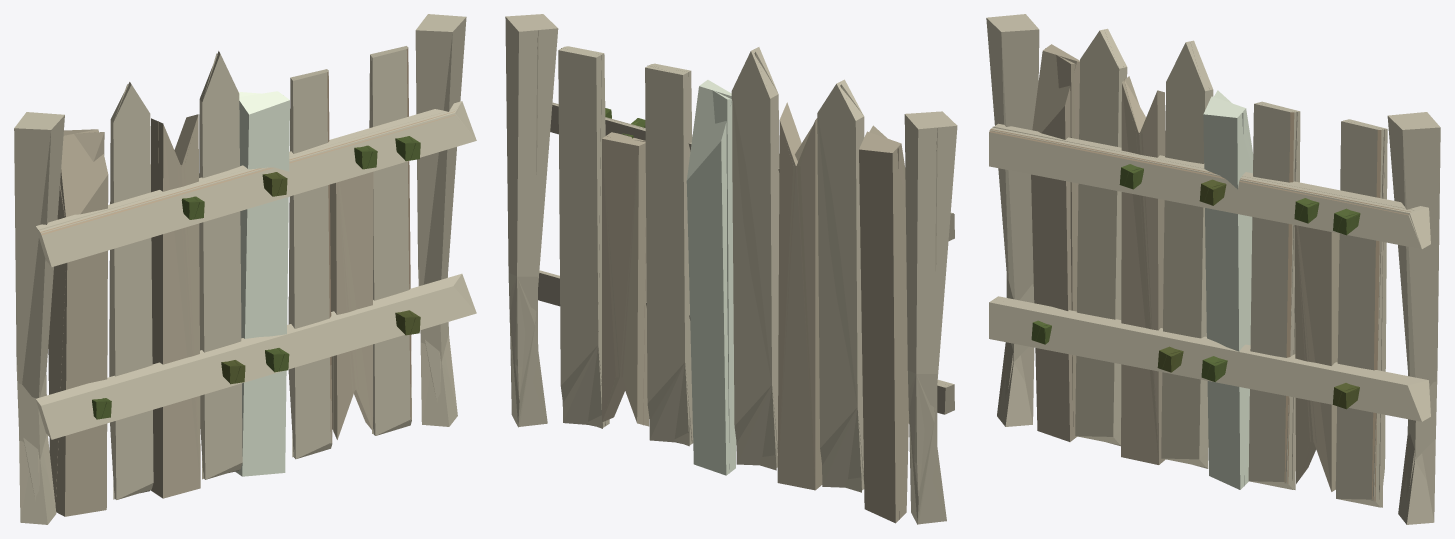
File: barrier.fbx
The picture shows the model from 3 angles, left to right: view 1: azimuth 30°, elevation 25°; view 2: azimuth 150°, elevation 25°; view 3: azimuth 330°, elevation 25°; orthographic projection.
Visible parts, largest first — view 1: barrier; view 2: barrier; view 3: barrier.
Boxes of the visible parts, x1,y1,x2,y2 form: barrier: [14, 14, 476, 524]; barrier: [505, 14, 957, 524]; barrier: [986, 14, 1440, 524].
Size of the model in its own units: 1.56 by 1.41 by 0.2402.
